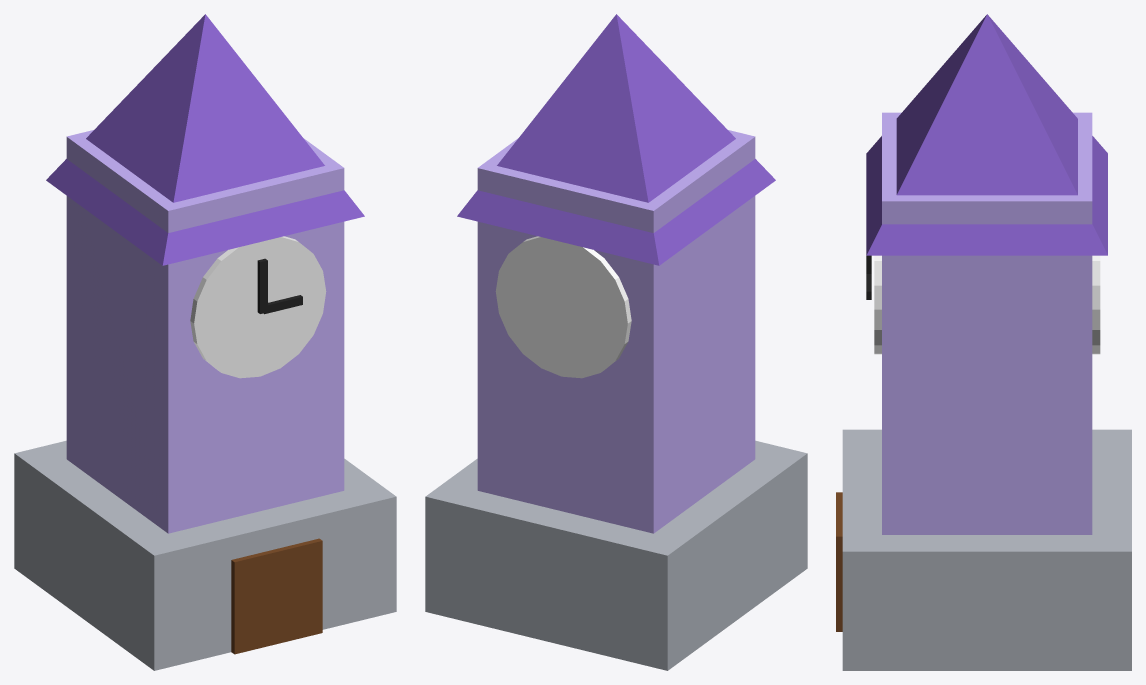
File: b_clock.glb
3 views of the same model, side by side, from view 1: azimuth 30°, elevation 25°; view 2: azimuth 150°, elevation 25°; view 3: azimuth 270°, elevation 25° (orthographic). The views are drawn at different scales.
Visible parts, largest first — view 1: Tower, Base, Top, Face, Door, Hand1; view 2: Tower, Base, Top, Face.001; view 3: Tower, Base, Top, Door, Face.001, Face.
Part boxes in pixels (x1,y1,x2,y2): Tower: [66, 130, 344, 533]; Base: [14, 440, 396, 670]; Top: [46, 14, 364, 265]; Face: [190, 236, 326, 378]; Door: [231, 538, 322, 654]; Hand1: [257, 258, 267, 313]; Tower: [477, 130, 755, 533]; Base: [425, 440, 807, 670]; Top: [457, 14, 775, 265]; Face.001: [495, 236, 631, 378]; Tower: [882, 112, 1092, 534]; Base: [842, 429, 1131, 670]; Top: [866, 14, 1107, 255]; Door: [836, 492, 842, 631]; Face.001: [1092, 255, 1100, 354]; Face: [874, 255, 881, 354].
Bounding box in the file's own units: 2.2 × 5 × 2.25.
